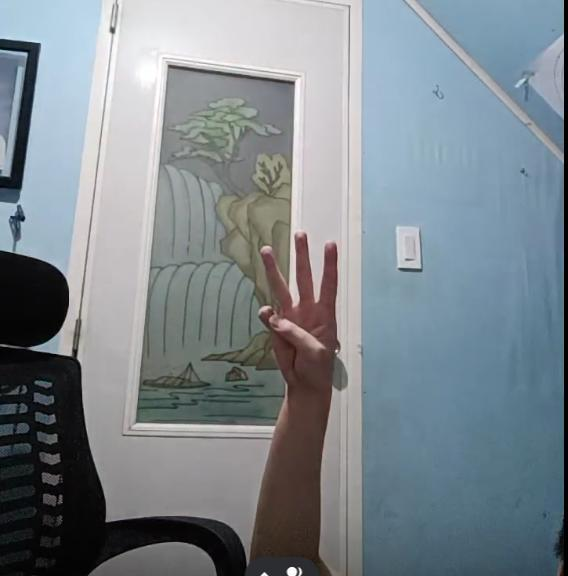w: (258, 231, 338, 394)
